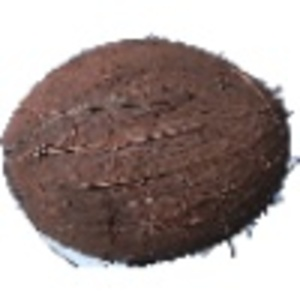coco: (1, 37, 300, 269)
